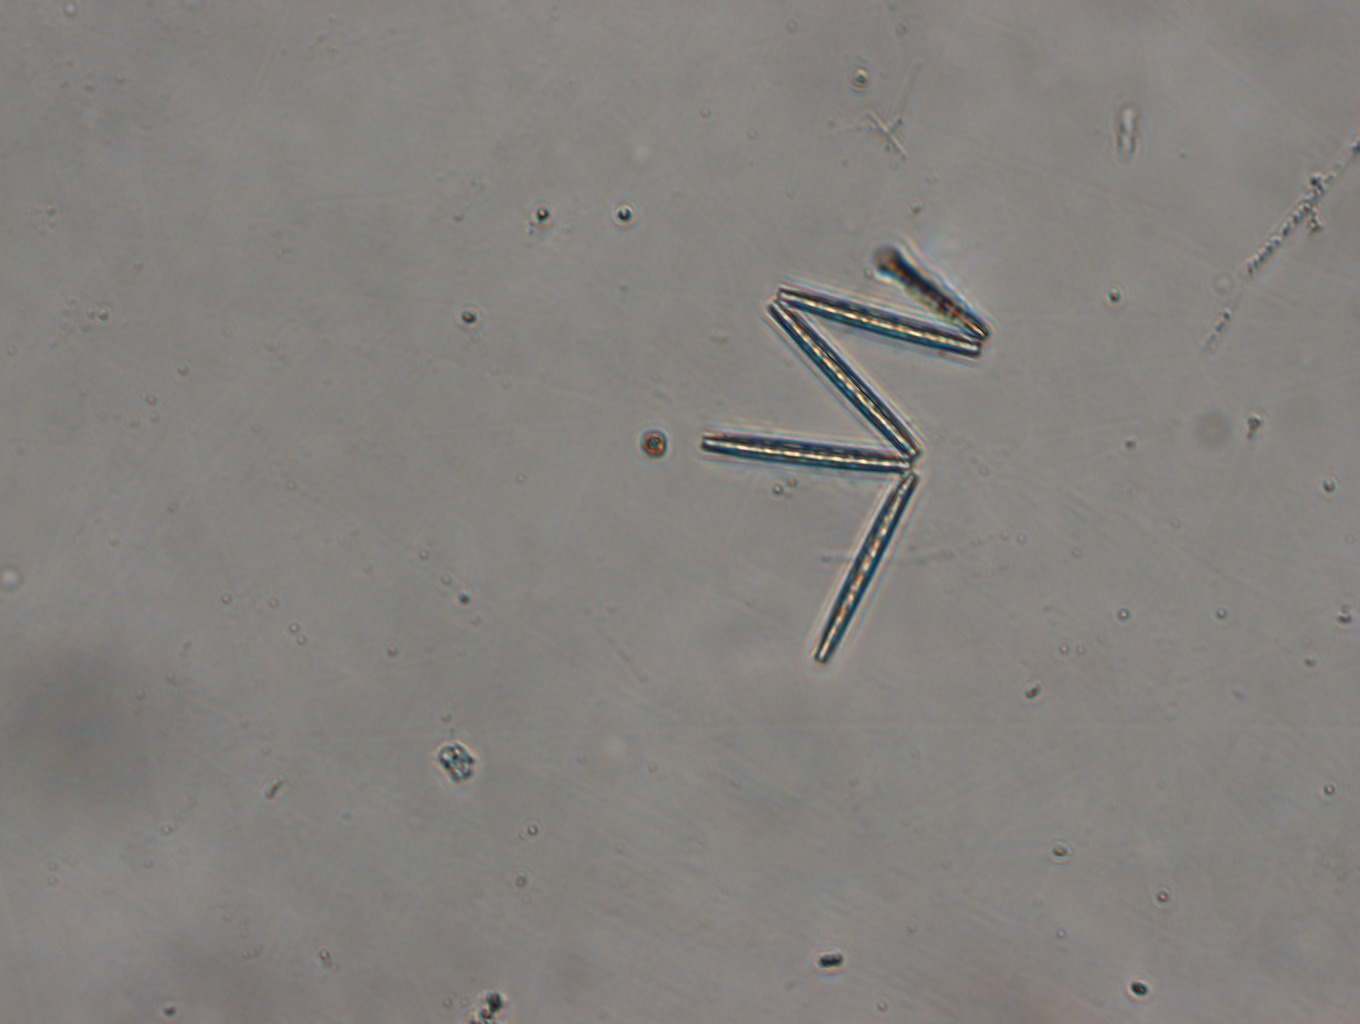thalassionema nitzschioides: (696, 238, 990, 670)
